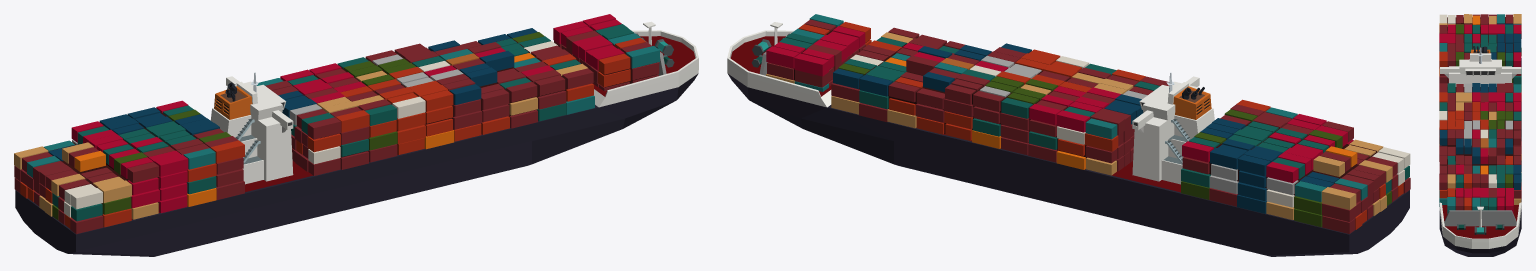
The model's file is ContainerShip 1.fbx.
3 renders of one model, left to right at view 1: azimuth 30°, elevation 25°; view 2: azimuth 150°, elevation 25°; view 3: azimuth 270°, elevation 25°, orthographic. The views are drawn at different scales.
Parts seen in each view (by area): view 1: ContainerShip Full; view 2: ContainerShip Full; view 3: ContainerShip Full.
Boxes of the visible parts, left/top/right/bottom form: ContainerShip Full: left=14, top=14, right=698, bottom=256; ContainerShip Full: left=727, top=14, right=1410, bottom=256; ContainerShip Full: left=1439, top=14, right=1521, bottom=256.
Size of the model in its own units: 13700 by 2730 by 2274.
